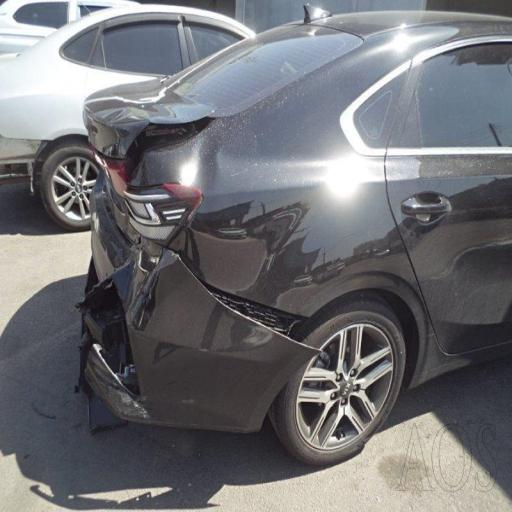broken: (49, 176, 365, 452)
